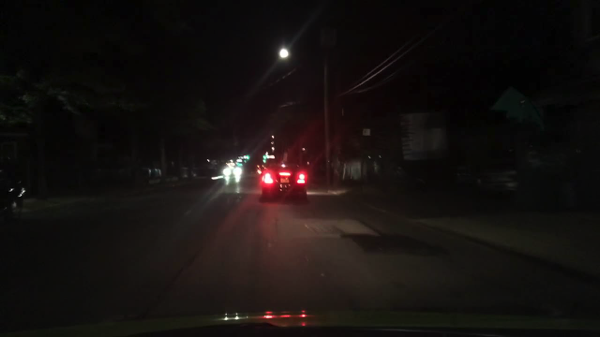car: (261, 161, 308, 203), (0, 155, 28, 225), (477, 166, 518, 193), (374, 170, 428, 190), (221, 165, 243, 180), (455, 173, 477, 186), (526, 150, 540, 168), (180, 169, 195, 181), (140, 167, 152, 179), (152, 169, 163, 179)
traffic sign: (362, 129, 371, 137)
